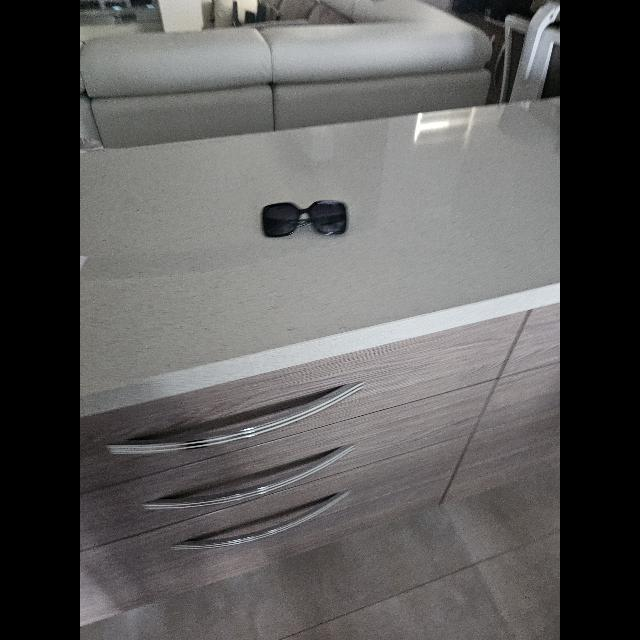Sunglasses: (262, 200, 348, 238)
